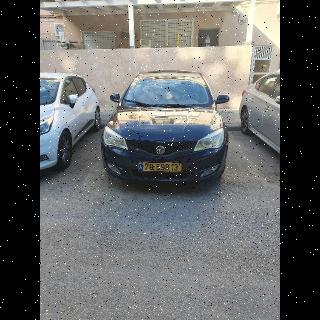LicensePlate: (144, 163, 182, 171)
